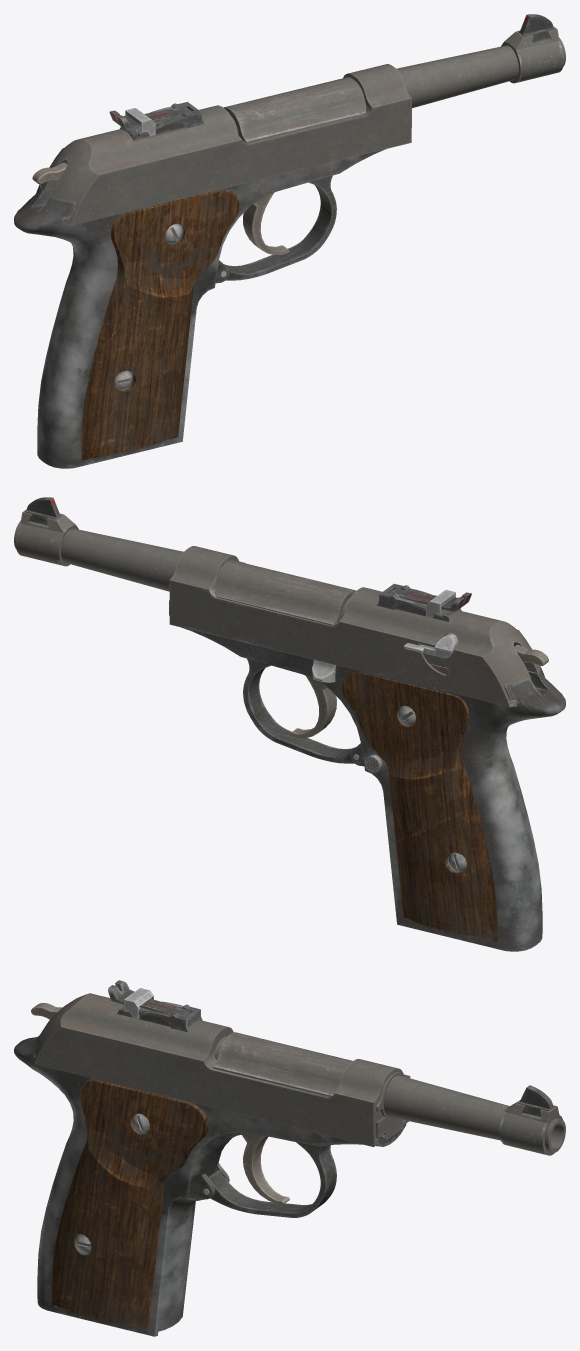
The model's file is pistol.glb.
The picture shows the model from 3 angles, top to bottom: view 1: azimuth 30°, elevation 25°; view 2: azimuth 150°, elevation 25°; view 3: azimuth 330°, elevation 25°; orthographic projection.
Parts seen in each view (by area): view 1: service_pistol_pistol_a, service_pistol_slide_a, service_pistol_trigger_a; view 2: service_pistol_pistol_a, service_pistol_slide_a, service_pistol_trigger_a; view 3: service_pistol_pistol_a, service_pistol_slide_a, service_pistol_trigger_a.
Part boxes in pixels (bbox=[...]): service_pistol_pistol_a: bbox=[14, 14, 565, 468]; service_pistol_slide_a: bbox=[41, 64, 411, 225]; service_pistol_trigger_a: bbox=[243, 193, 289, 254]; service_pistol_pistol_a: bbox=[14, 497, 565, 951]; service_pistol_slide_a: bbox=[169, 546, 544, 707]; service_pistol_trigger_a: bbox=[290, 676, 336, 737]; service_pistol_pistol_a: bbox=[14, 1032, 565, 1336]; service_pistol_slide_a: bbox=[32, 980, 410, 1146]; service_pistol_trigger_a: bbox=[242, 1134, 289, 1204].
Size of the model in its own units: 0.2219 by 0.1295 by 0.0318.
1 material, 1 textured.
